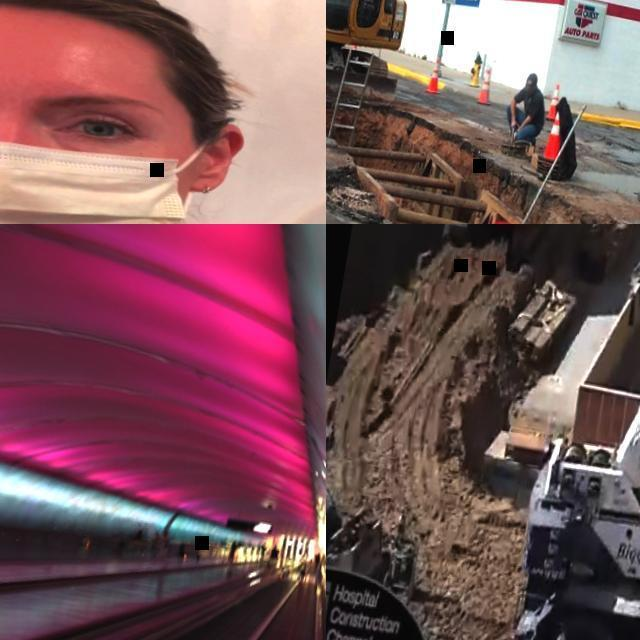no_helmet: (0, 0, 238, 86), (526, 70, 538, 84)
